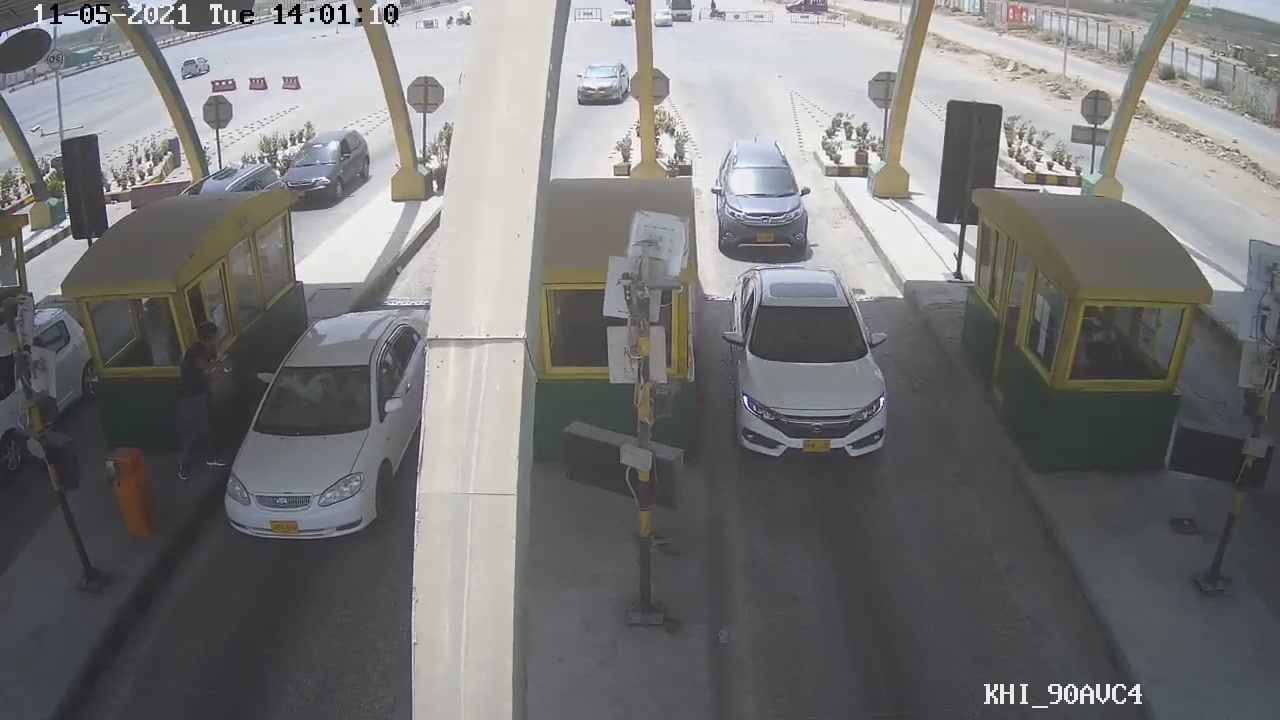F1: (723, 262, 892, 459)
